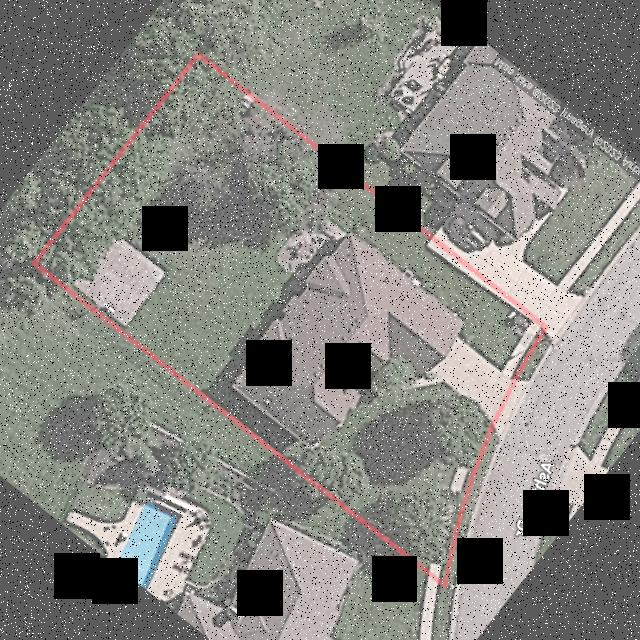Driveway: (414, 337, 510, 420)
Extra Driveway: (495, 380, 529, 438)
Extra Lawn: (445, 425, 501, 598), (517, 332, 553, 382)
House: (233, 235, 463, 446)
Other: (427, 241, 529, 320), (74, 240, 165, 325), (277, 219, 349, 280)
Sidewalk: (502, 321, 542, 378), (450, 466, 467, 493), (429, 563, 442, 578)
